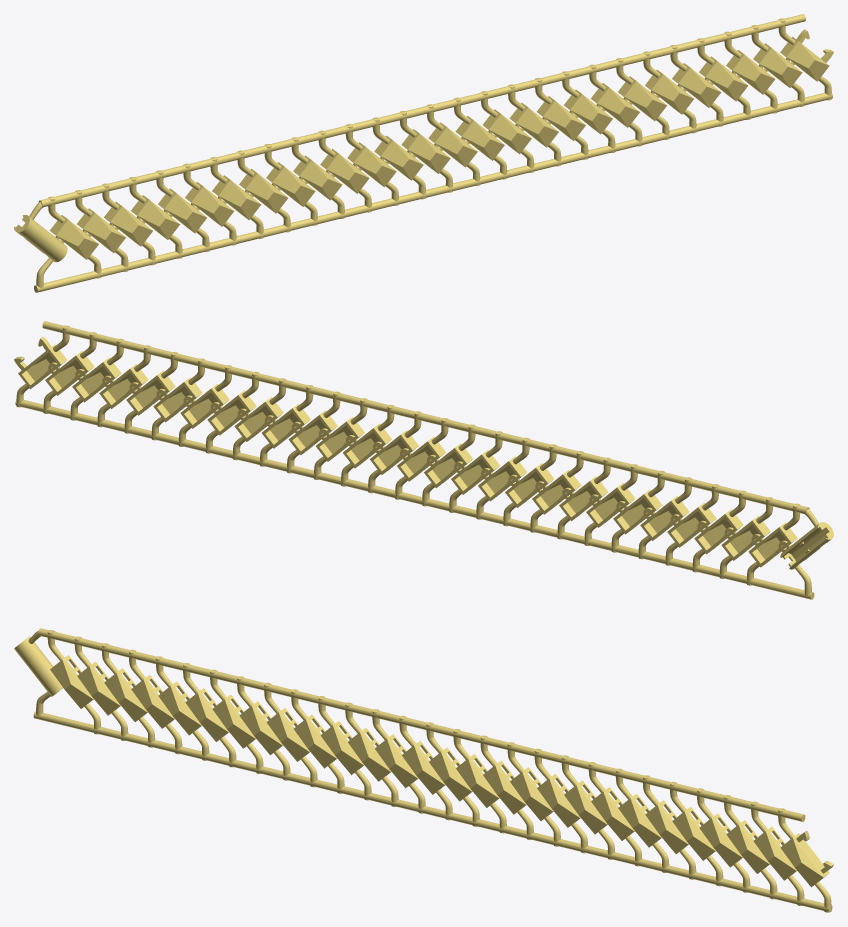
The model's file is yzn5-75_sade.glb.
The picture shows the model from 3 angles, top to bottom: view 1: azimuth 30°, elevation 25°; view 2: azimuth 150°, elevation 25°; view 3: azimuth 330°, elevation 25°; orthographic projection.
Visible parts, largest first — view 1: Renderer Node; view 2: Renderer Node; view 3: Renderer Node.
Part boxes in pixels (box(x1,y1,x2,y2)): Renderer Node: box(14, 14, 833, 292); Renderer Node: box(14, 321, 833, 599); Renderer Node: box(14, 628, 833, 912).
Size of the model in its own units: 187 by 19.96 by 4.1.
